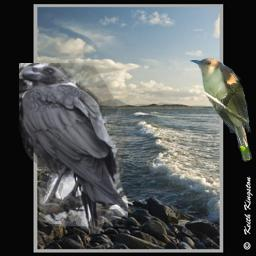Crow: (19, 63, 128, 234)
Cuckoo: (187, 56, 254, 166)
